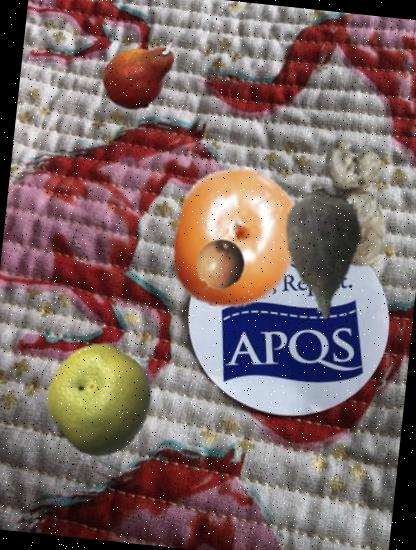Beetroot: (247, 175, 400, 328)
Ginger: (283, 128, 416, 275)
Granadilla: (187, 235, 250, 298)
Pear: (98, 33, 186, 122)
Pomelo: (39, 340, 160, 461)
Tomato: (157, 160, 316, 319)
